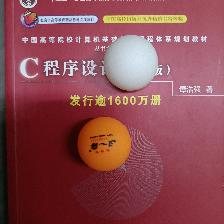WhiteBall: (103, 34, 157, 91)
YellowBall: (76, 117, 131, 172)
